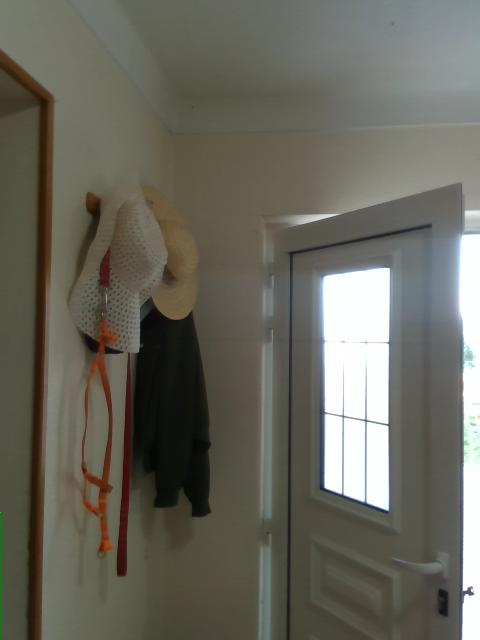semi_door: (263, 178, 479, 638)
